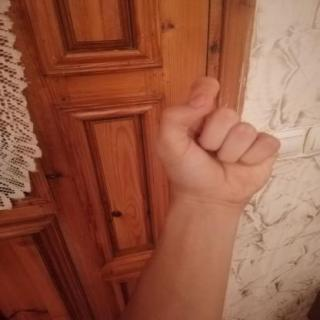FAA: (145, 69, 290, 216)
